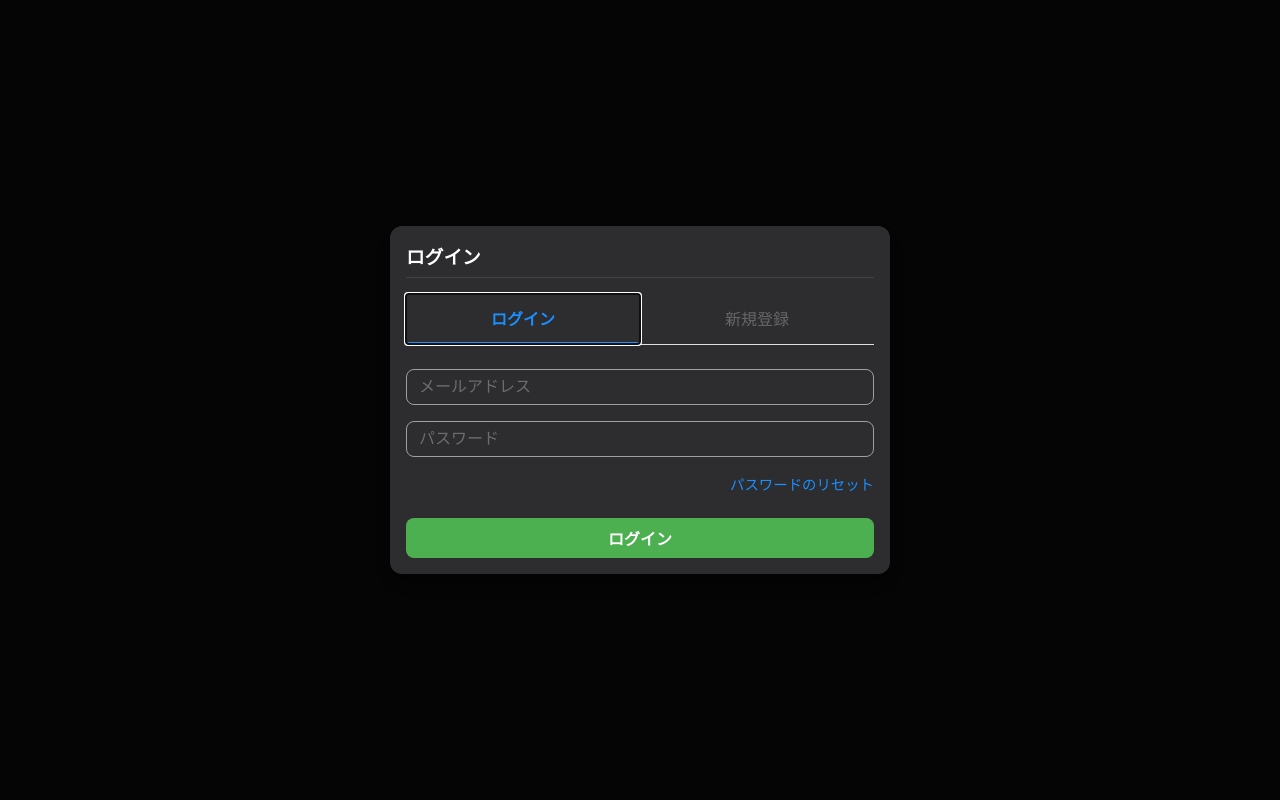
it: AuthModal › mentions settings in the migration confirmation dialog
The image size is (1280, 800).
Type "player@example.com" into the field with placeholder "メールアドレス" at (640, 387), box [406,369,874,405]
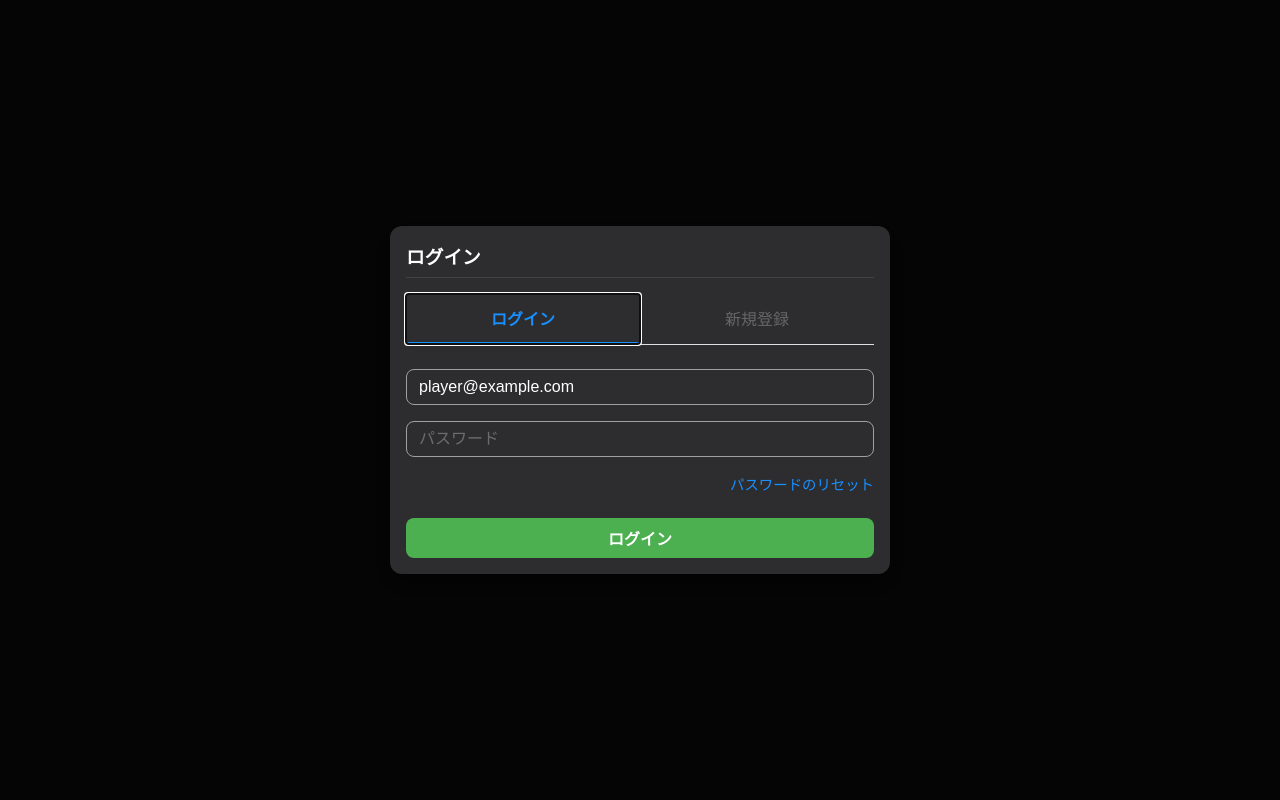
Type "secret123" into the password field with placeholder "パスワード" at (640, 439), box [406,421,874,457]
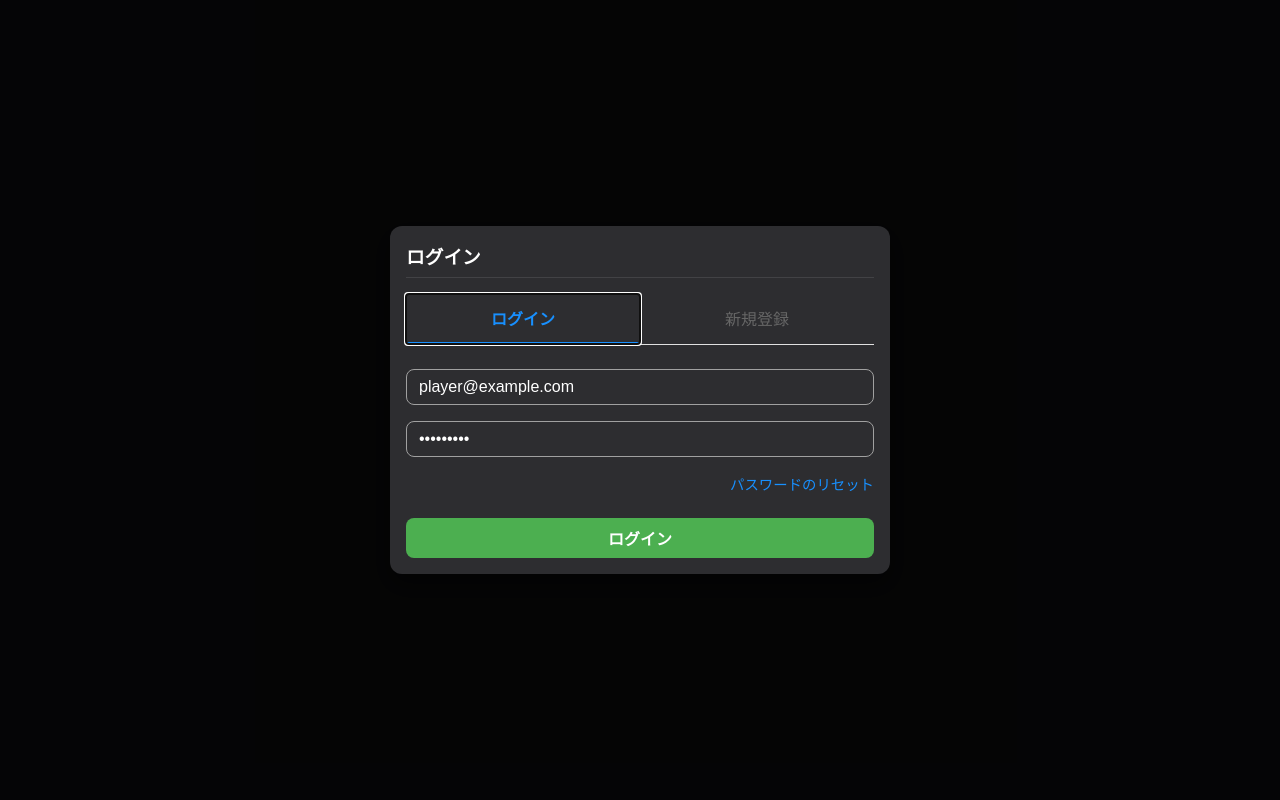
Click the 2nd button "ログイン" at (640, 538), box [406,518,874,558]
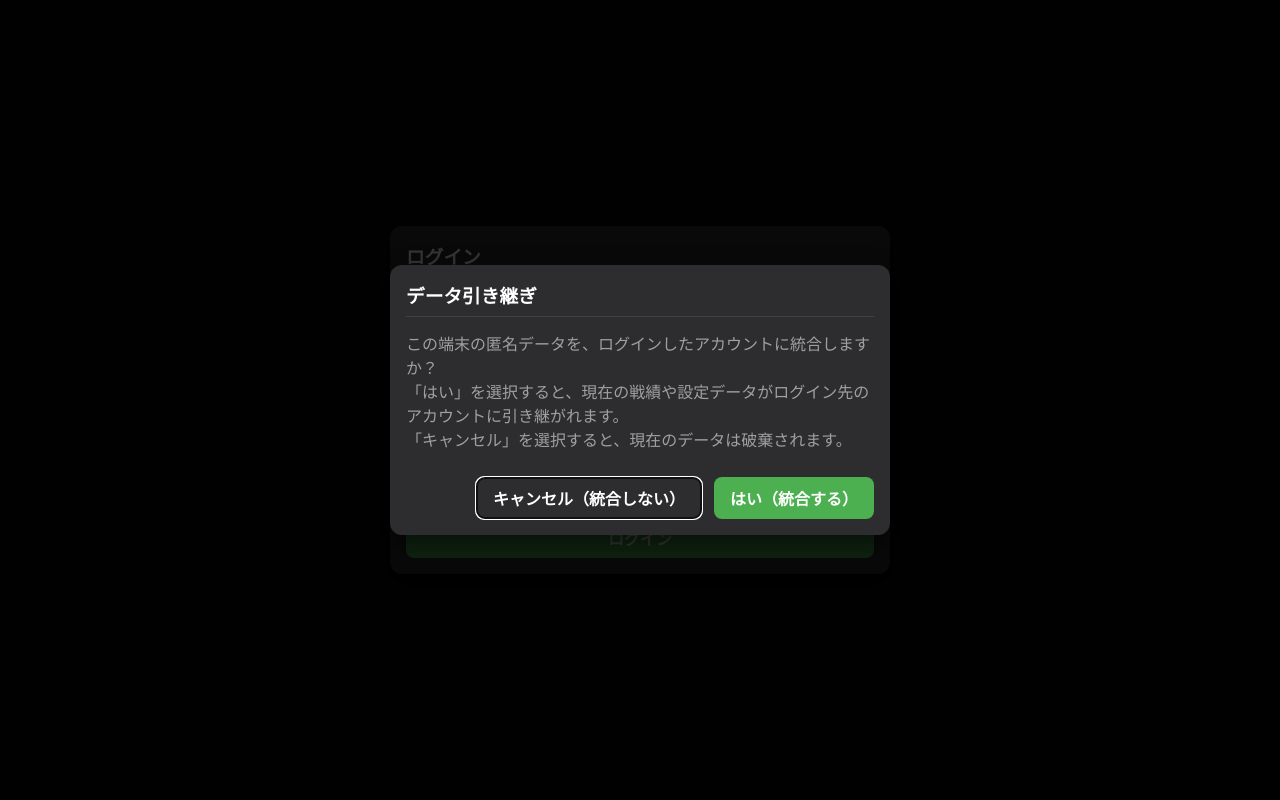
Now the text "「はい」を選択すると、現在の戦績や設定データがログイン先のアカウントに引き継がれます。" is shown, box [406,381,874,429]
